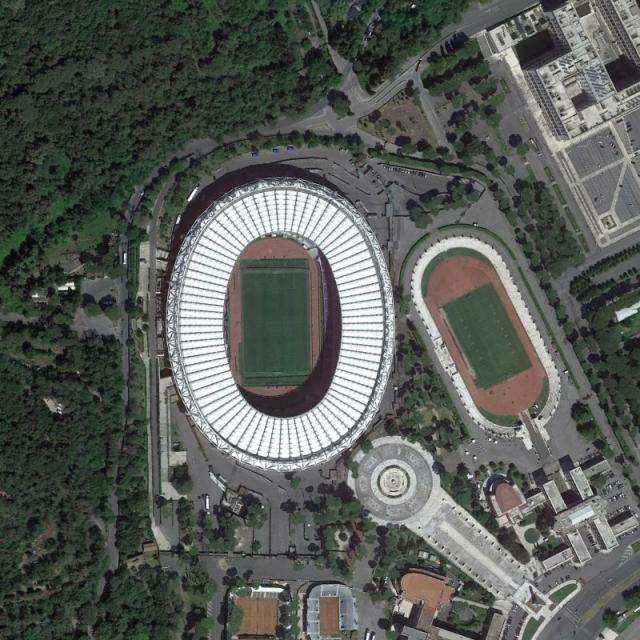vehicle: (205, 495, 210, 510), (122, 252, 127, 265), (365, 630, 371, 640), (370, 632, 377, 640)
